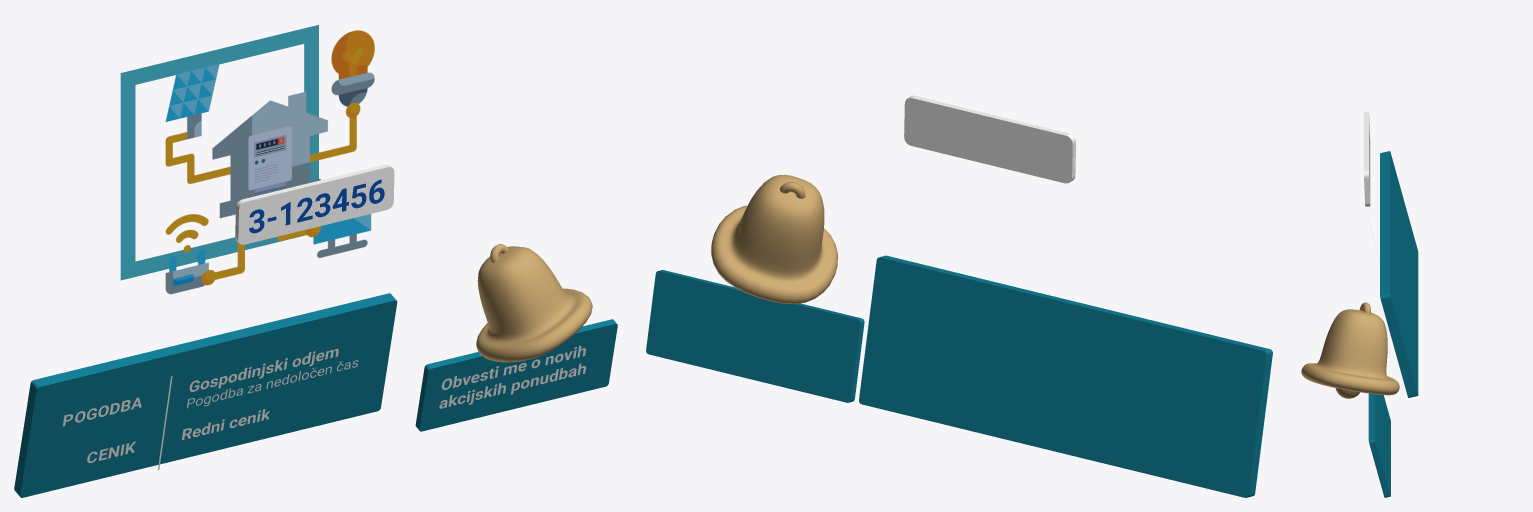
Rendered from smm1.gltf.
3 views of the same model, side by side, from view 1: azimuth 30°, elevation 25°; view 2: azimuth 150°, elevation 25°; view 3: azimuth 270°, elevation 25° (orthographic). The views are drawn at different scales.
Visible parts, largest first — view 1: Rectangle - pogodba, smm (2).png, Rectangle - e-mail, Cube, dobavitelj (2).png, Rectangle - smm, Akcijske ponudbe, Group 82, Gospodinjski odjem, POGODBA, CENIK, Pogodba za nedoločen čas; view 2: Rectangle - pogodba, Rectangle - e-mail, Cube, Rectangle - smm; view 3: Rectangle - pogodba, Cube, Rectangle - e-mail, Rectangle - smm.
Part boxes in pixels (left/top/right/bottom): Rectangle - pogodba: left=14, top=293, right=397, bottom=497; smm (2).png: left=165, top=30, right=374, bottom=294; Rectangle - e-mail: left=415, top=319, right=617, bottom=431; Cube: left=476, top=246, right=592, bottom=362; dobavitelj (2).png: left=120, top=25, right=318, bottom=280; Rectangle - smm: left=235, top=164, right=394, bottom=244; Akcijske ponudbe: left=439, top=345, right=585, bottom=408; Group 82: left=249, top=179, right=384, bottom=233; Gospodinjski odjem: left=189, top=348, right=338, bottom=391; POGODBA, CENIK: left=63, top=397, right=141, bottom=462; Pogodba za nedoločen čas: left=187, top=360, right=358, bottom=408; Rectangle - pogodba: left=859, top=255, right=1272, bottom=497; Rectangle - e-mail: left=646, top=270, right=864, bottom=402; Cube: left=711, top=174, right=837, bottom=304; Rectangle - smm: left=904, top=95, right=1075, bottom=183; Rectangle - pogodba: left=1380, top=151, right=1418, bottom=397; Cube: left=1301, top=309, right=1399, bottom=395; Rectangle - e-mail: left=1368, top=393, right=1390, bottom=497; Rectangle - smm: left=1363, top=112, right=1370, bottom=206.
Size of the model in its own units: 38.56 by 24.87 by 15.33.
Materials: 14 (2 with a texture image).
